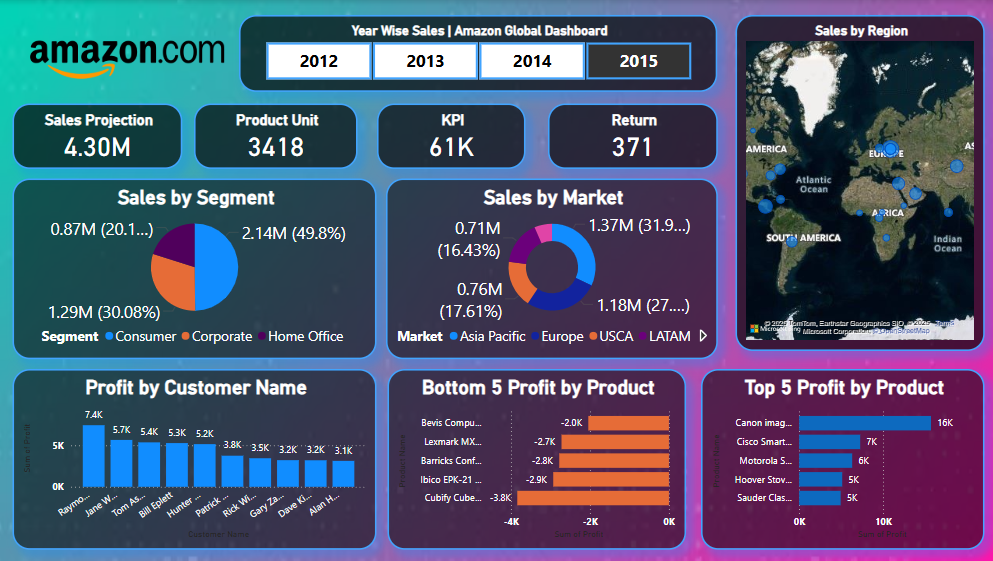

The page's visual inventory and layout, read from the dashboard file:
{"tool":"powerbi","page":{"name":" Report 1","canvas":[1280,720],"ordinal":0},"visuals":[{"type":"slicer","title":"Year Wise Sales | Amazon Global Dashboard","fields":{"Values":["Orders.year"]},"box":[308.6,19.1,614,98.6],"z":0},{"type":"image","box":[0,0,329.3,152.7],"z":1000},{"type":"card","title":"Sales Projection","fields":{"Values":["Orders.Sales"]},"box":[17.5,132,217.9,84.3],"z":2000},{"type":"card","title":"Product Unit","fields":{"Values":["Orders.Product Name"]},"box":[251.3,132,210,84.3],"z":3000},{"type":"card","title":"KPI","fields":{"Values":["Orders.Quantity"]},"box":[485.1,132,190.9,84.3],"z":4000},{"type":"card","title":"Return","fields":{"Values":["Orders.Ship Date"]},"box":[704.6,132,217.9,84.3],"z":5000},{"type":"pieChart","title":"Sales by Segment","fields":{"Category":["Orders.Segment"],"Y":["Orders.Sales"]},"box":[17.5,229,467.6,232.2],"z":6000},{"type":"donutChart","title":"Sales by Market","fields":{"Y":["Orders.Sales"],"Category":["Orders.Market"]},"box":[496.3,229,426.3,232.2],"z":7000},{"type":"columnChart","title":"Profit by Customer Name","fields":{"Category":["Orders.Customer Name"],"Y":["Orders.Profit"]},"box":[17.5,474,467.6,232.2],"z":8000},{"type":"clusteredBarChart","title":"Top 5 Profit by Product ","fields":{"Y":["Orders.Profit"],"Category":["Orders.Product Name"]},"box":[901.9,474,364.2,232.2],"z":9000},{"type":"clusteredBarChart","title":"Bottom 5 Profit by Product","fields":{"Y":["Orders.Profit"],"Category":["Orders.Product Name"]},"box":[499.5,474,383.3,232.2],"z":10000},{"type":"map","title":"Sales by Region","fields":{"Category":["Orders.Region"],"Size":["Orders.Sales"]},"box":[946.4,19.1,319.7,431.1],"z":10001}]}

Visuals, with their boxes in screenshot pixels (x1, y1, x2, y2), scaled from the page's 1280x720 canvas onto the 993x561 screenshot:
"Year Wise Sales | Amazon Global Dashboard" slicer: 239, 15, 716, 92
image: 0, 0, 255, 119
"Sales Projection" card: 14, 103, 183, 169
"Product Unit" card: 195, 103, 358, 169
"KPI" card: 376, 103, 524, 169
"Return" card: 547, 103, 716, 169
"Sales by Segment" pieChart: 14, 178, 376, 359
"Sales by Market" donutChart: 385, 178, 716, 359
"Profit by Customer Name" columnChart: 14, 369, 376, 550
"Top 5 Profit by Product " clusteredBarChart: 700, 369, 982, 550
"Bottom 5 Profit by Product" clusteredBarChart: 388, 369, 685, 550
"Sales by Region" map: 734, 15, 982, 351
